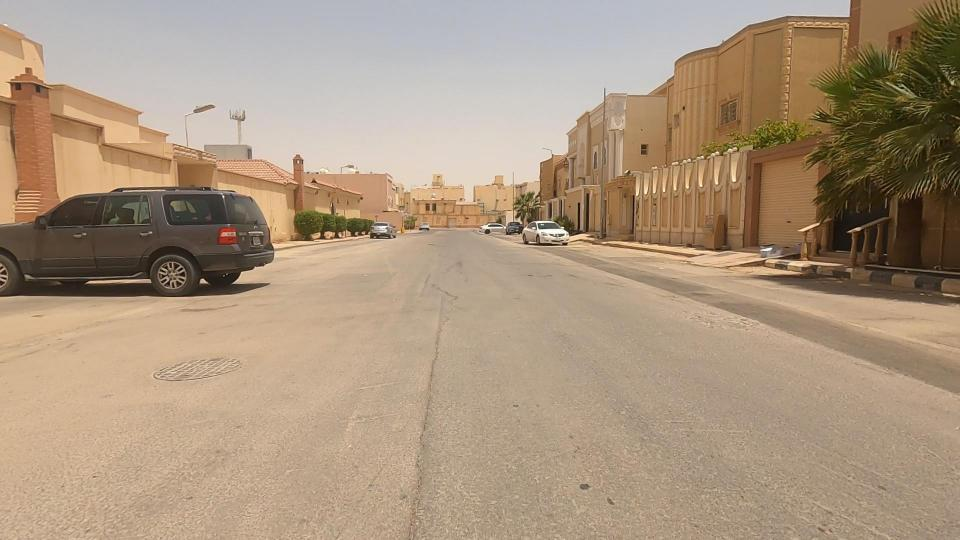GARBAGE: (728, 224, 820, 280)
